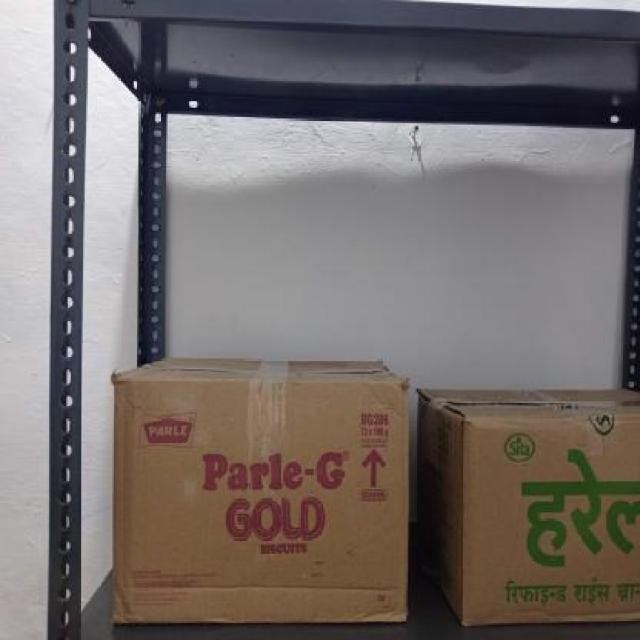box: (108, 375, 414, 623), (460, 413, 640, 622)
